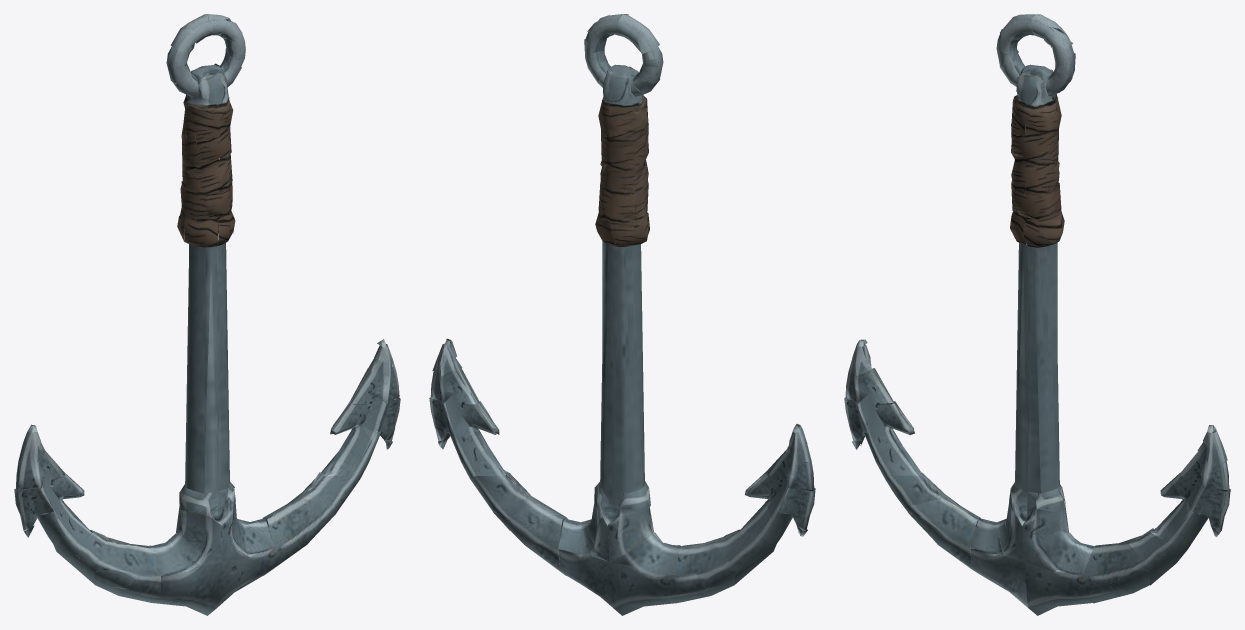
The model's file is nerith-ancre.glb.
3 renders of one model, left to right at view 1: azimuth 30°, elevation 25°; view 2: azimuth 150°, elevation 25°; view 3: azimuth 330°, elevation 25°, orthographic.
Parts seen in each view (by area): view 1: Mesh_0; view 2: Mesh_0; view 3: Mesh_0.
Part boxes in pixels (x1,y1,x2,y2): Mesh_0: [14, 14, 400, 615]; Mesh_0: [429, 14, 815, 615]; Mesh_0: [844, 14, 1230, 615].
Bounding box in the file's own units: 0.636 × 0.9533 × 0.0862.
Materials: 1 (1 with a texture image).
